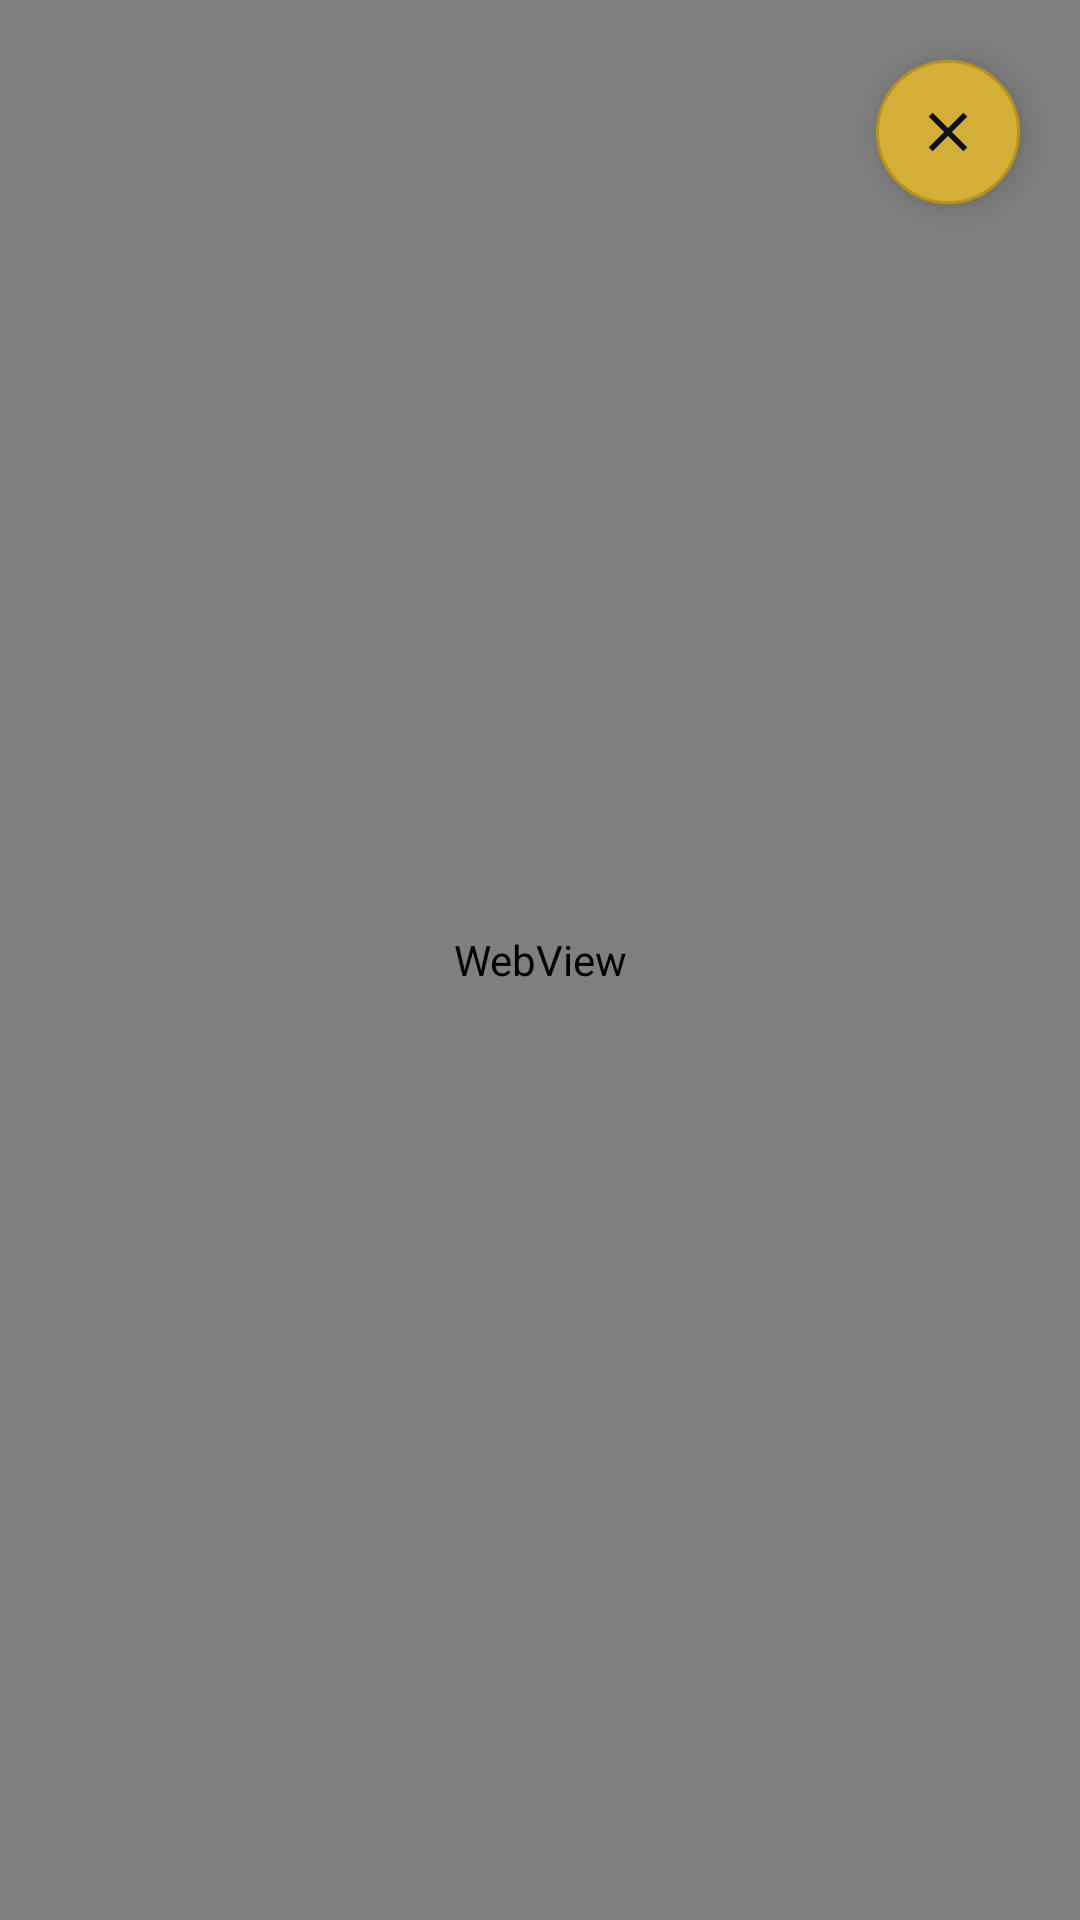

Named icons in this screenshot (1080px×1920px) and their bounding boxes, (x1, y1, x2, y2):
Close in-app browser: (876, 60, 1020, 204)
